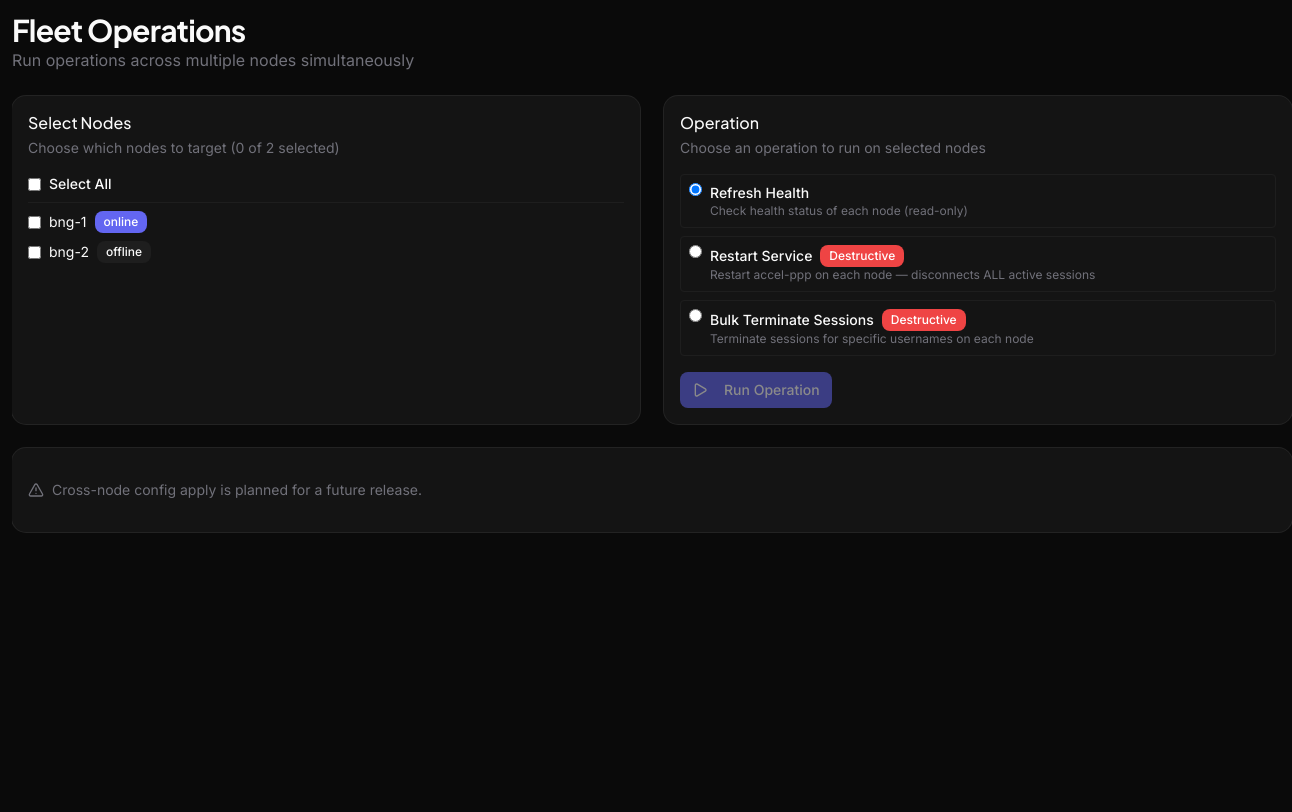
Test case: OperationsManager › displays failed count when there are failures
Expected: the text "bng-1" is shown, [49, 212, 87, 232]
Step 1. Click the checkbox named "Select all nodes" → (34, 184), box [28, 178, 41, 190]
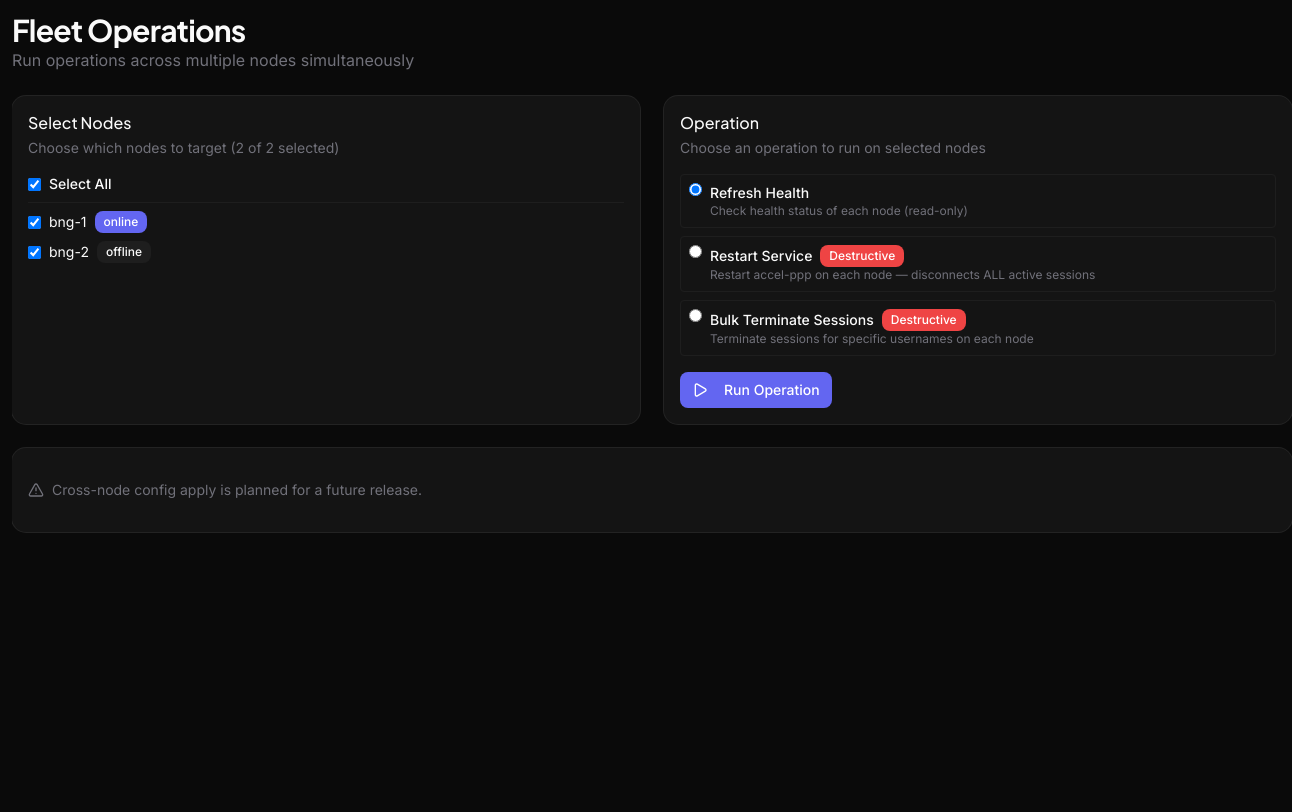
Step 2. Click the button "Run Operation" → (756, 390), box [680, 372, 832, 408]
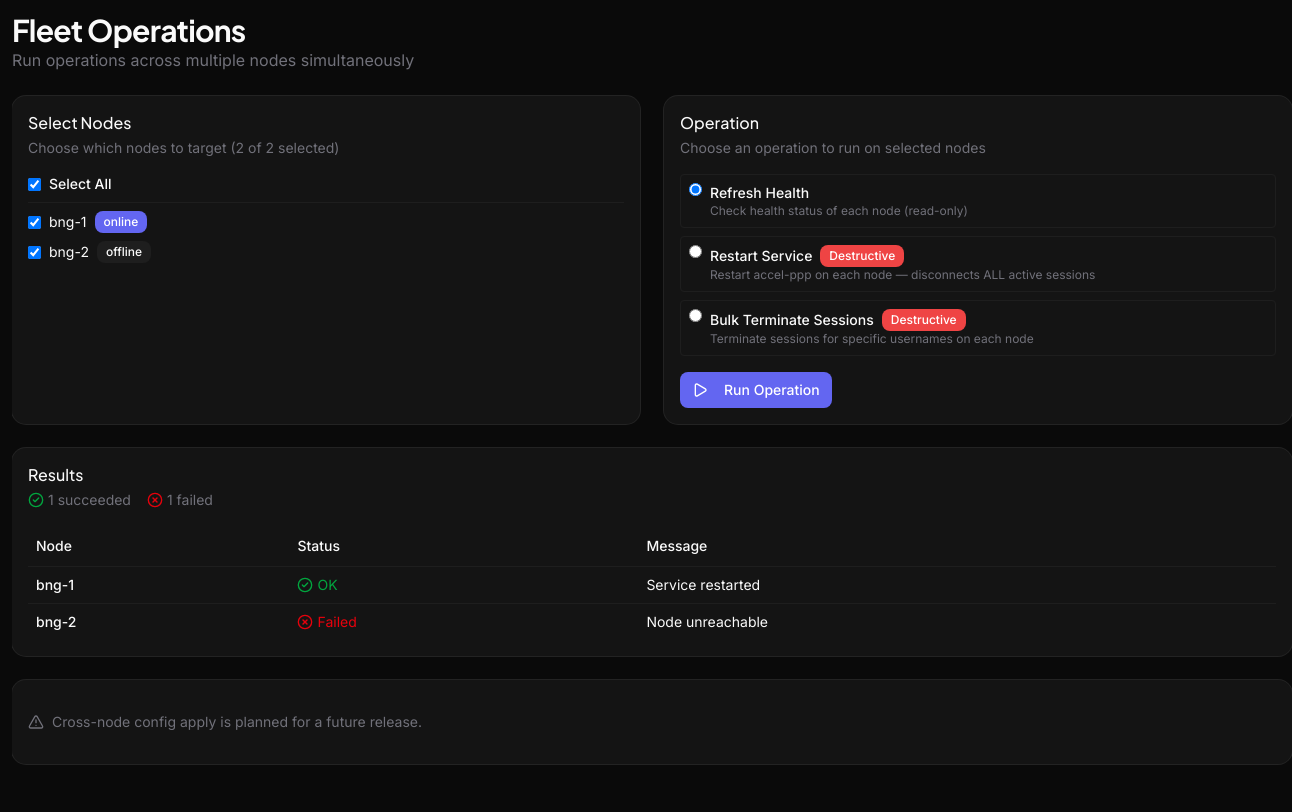
Expected: the text "1 failed" is shown, [147, 490, 213, 510]
Expected: the text "Failed" is shown, [298, 612, 357, 630]
